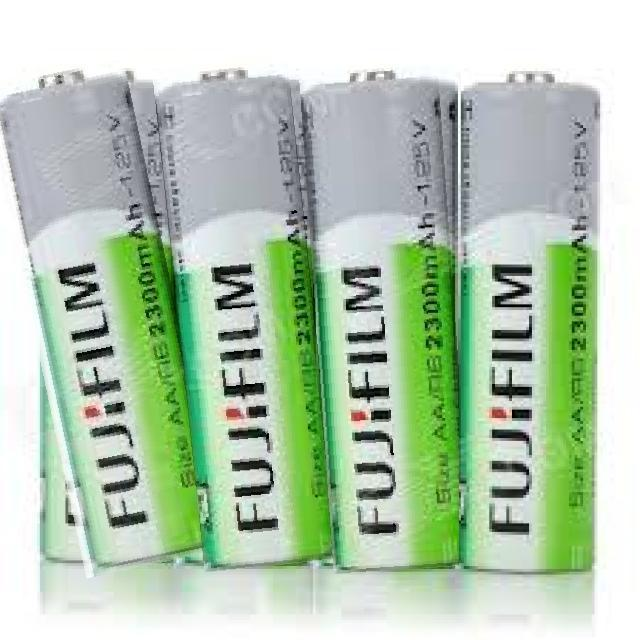Battery: (0, 52, 211, 586), (300, 72, 476, 572), (162, 65, 336, 564), (456, 77, 602, 581)
